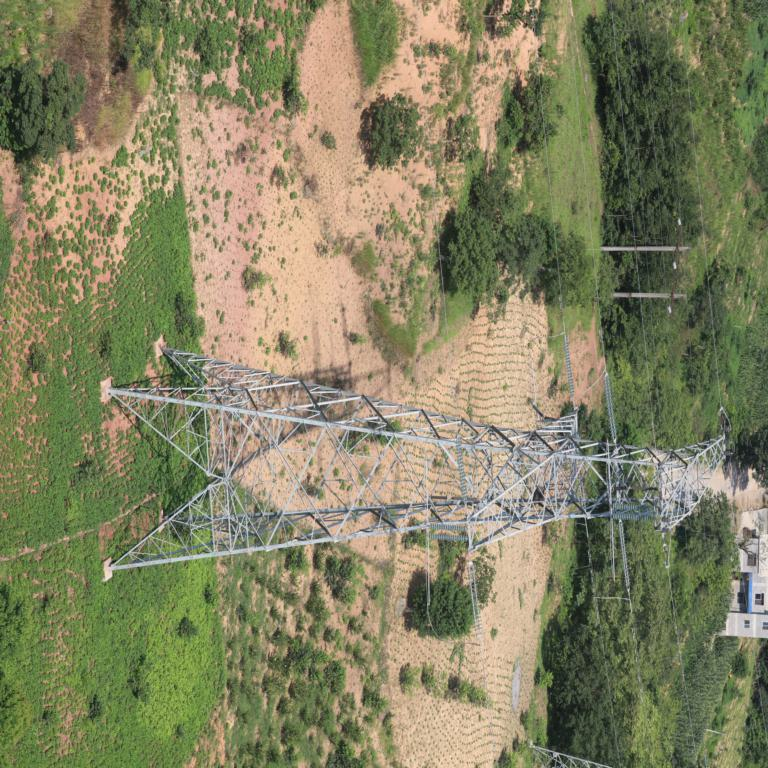nest: (534, 486, 542, 503)
